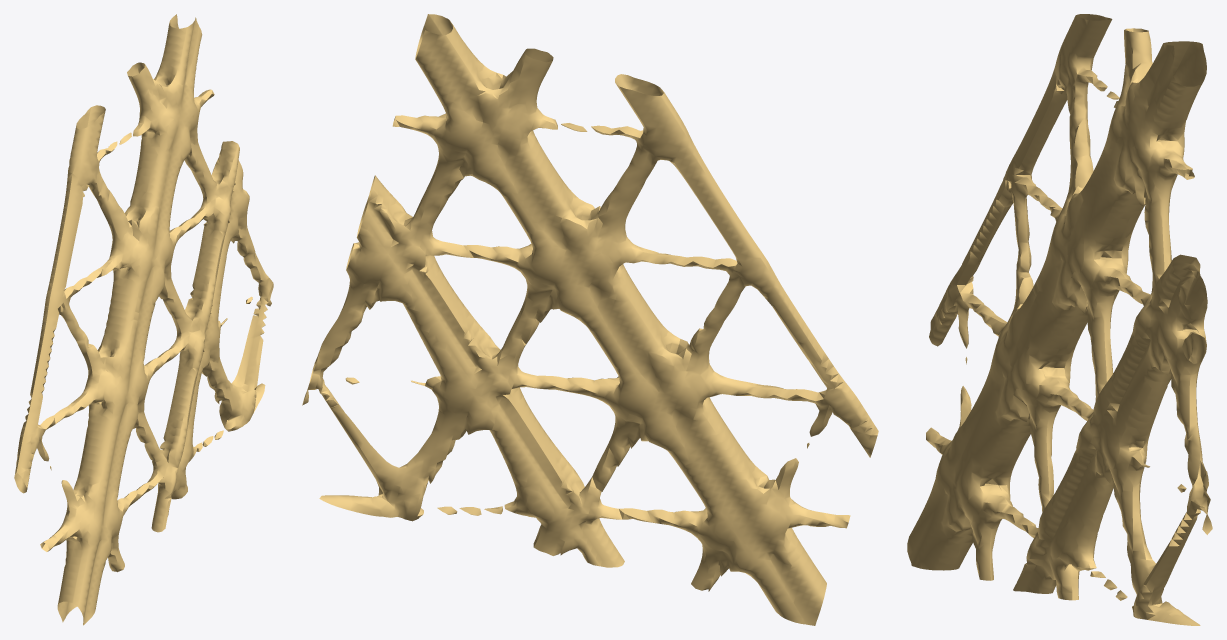
The model's file is detail.classical.von_mises.p99.glb.
The picture shows the model from 3 angles, left to right: view 1: azimuth 30°, elevation 25°; view 2: azimuth 150°, elevation 25°; view 3: azimuth 270°, elevation 25°; orthographic projection. The views are drawn at different scales.
Visible parts, largest first — view 1: detail.classical.von_mises.p99; view 2: detail.classical.von_mises.p99; view 3: detail.classical.von_mises.p99.
Boxes of the visible parts, left/top/right/bottom form: detail.classical.von_mises.p99: left=14, top=14, right=273, bottom=625; detail.classical.von_mises.p99: left=302, top=14, right=878, bottom=625; detail.classical.von_mises.p99: left=907, top=14, right=1212, bottom=625.
Size of the model in its own units: 1.49 by 1.97 by 0.8244.
